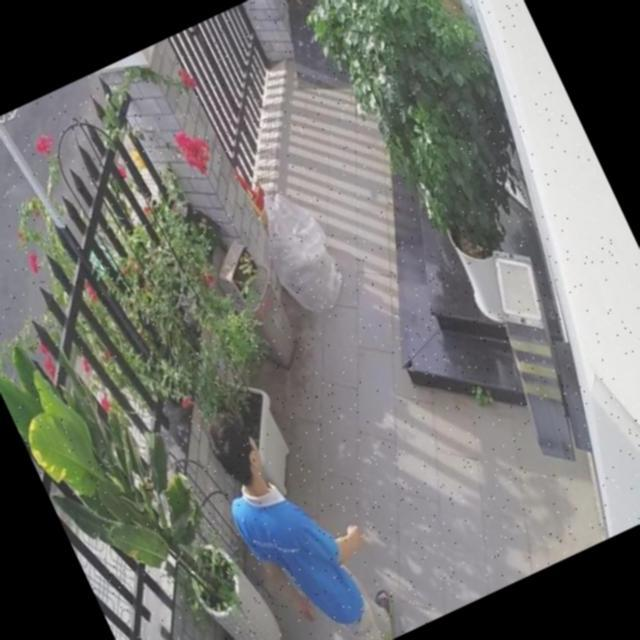person: (189, 375, 407, 640)
